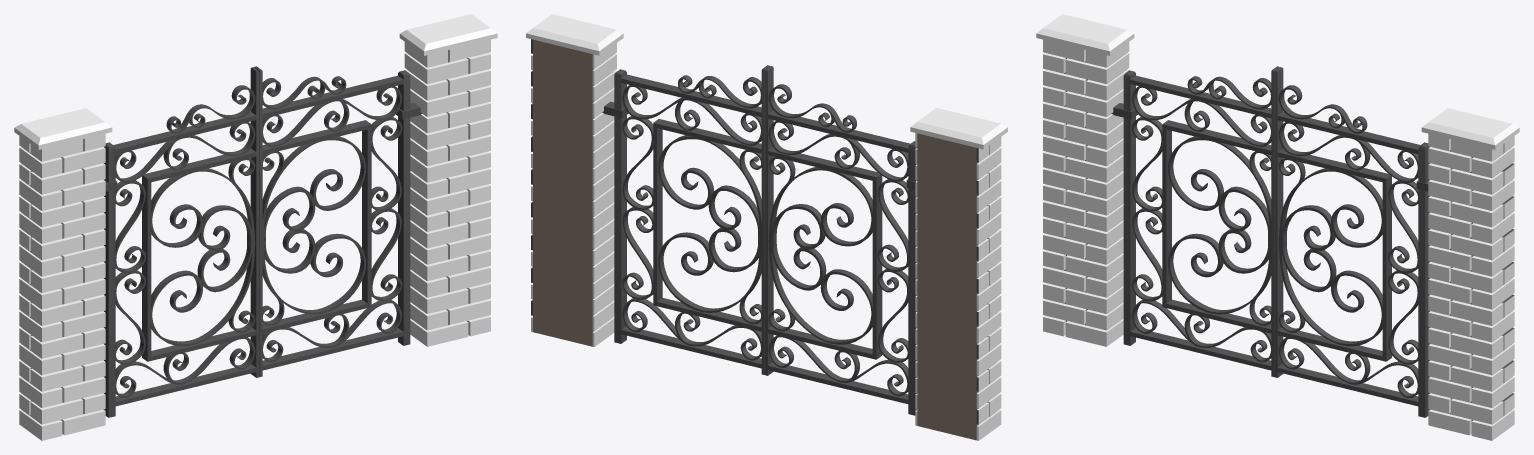
3 views of the same model, side by side, from view 1: azimuth 30°, elevation 25°; view 2: azimuth 150°, elevation 25°; view 3: azimuth 330°, elevation 25° (orthographic).
Parts seen in each view (by area): view 1: gates.dxf_001; view 2: gates.dxf_001; view 3: gates.dxf_001.
Part boxes in pixels (bbox=[...]): gates.dxf_001: bbox=[14, 14, 497, 440]; gates.dxf_001: bbox=[526, 14, 1007, 440]; gates.dxf_001: bbox=[1036, 14, 1519, 440].
Bounding box in the file's own units: 2485 × 1607 × 228.
